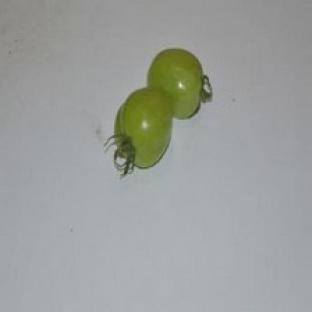Tomato: (111, 88, 172, 175), (148, 48, 211, 118)
